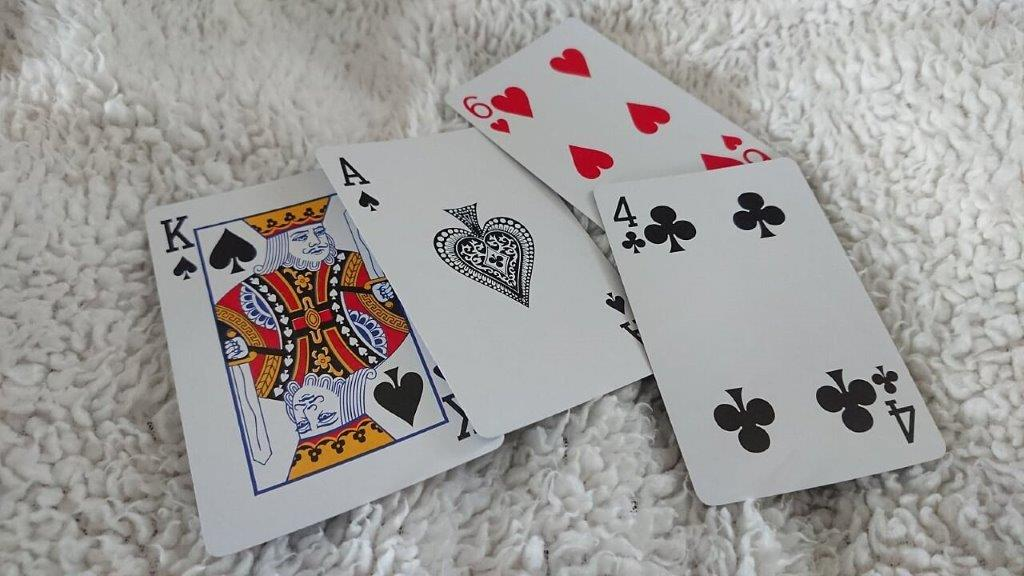4C: (604, 188, 654, 265)
6H: (457, 89, 517, 144)
AS: (326, 149, 393, 220)
KS: (153, 206, 211, 288)
